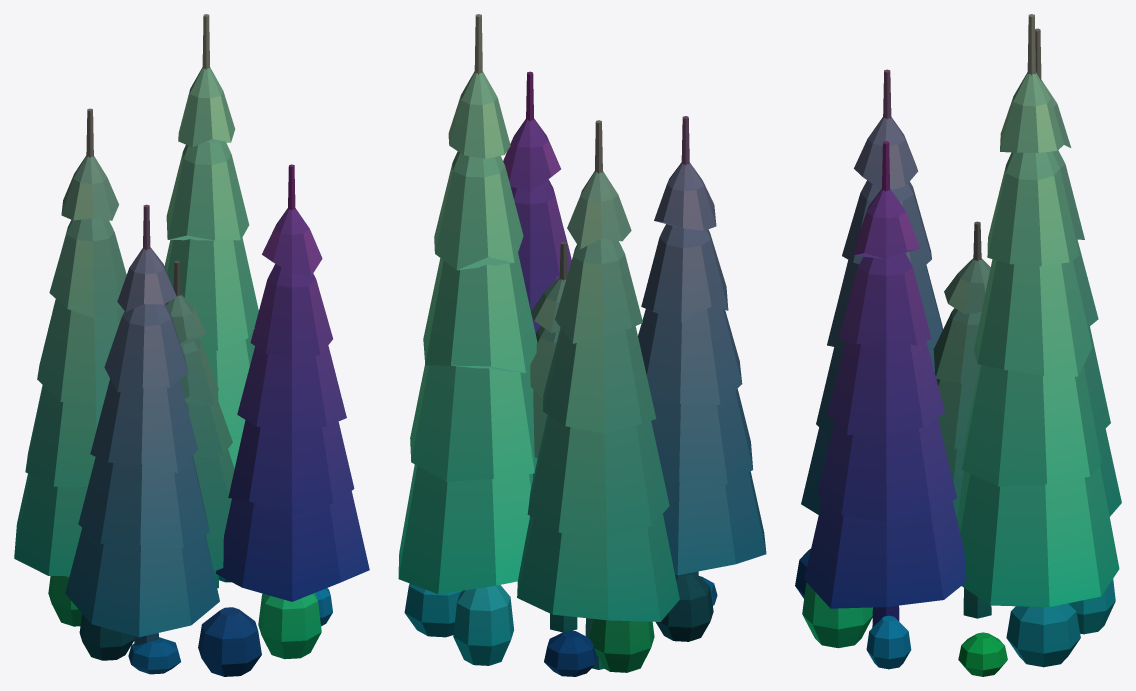
File: spruce_02.glb
3 views of the same model, side by side, from view 1: azimuth 30°, elevation 25°; view 2: azimuth 150°, elevation 25°; view 3: azimuth 270°, elevation 25° (orthographic). The views are drawn at different scales.
Parts seen in each view (by area): view 1: spruce_02.002; view 2: spruce_02.002; view 3: spruce_02.002.
Part boxes in pixels (x1,y1,x2,y2): spruce_02.002: (14,14,369,676); spruce_02.002: (398,14,766,676); spruce_02.002: (795,14,1121,676).
Bounding box in the file's own units: 0.94 × 1.86 × 0.8836.
